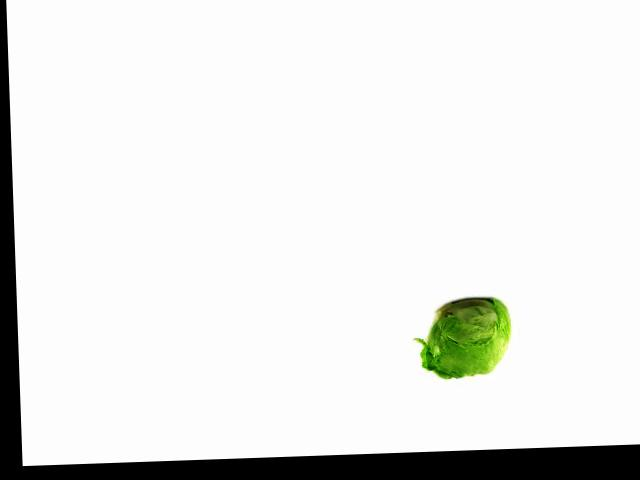lettuce: (422, 293, 516, 383)
